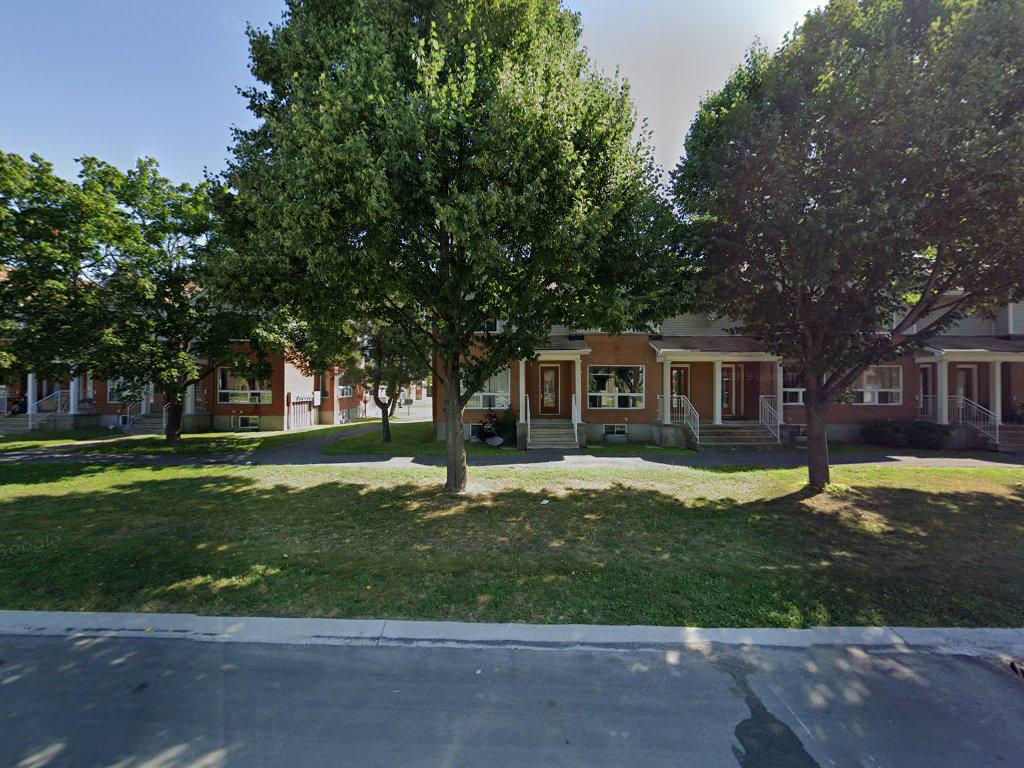trunk: (436, 339, 475, 499), (799, 369, 841, 500)
